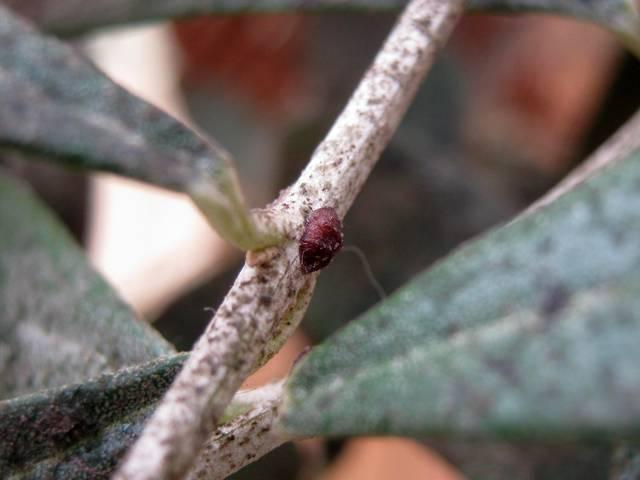BlackScale: (295, 204, 349, 280)
